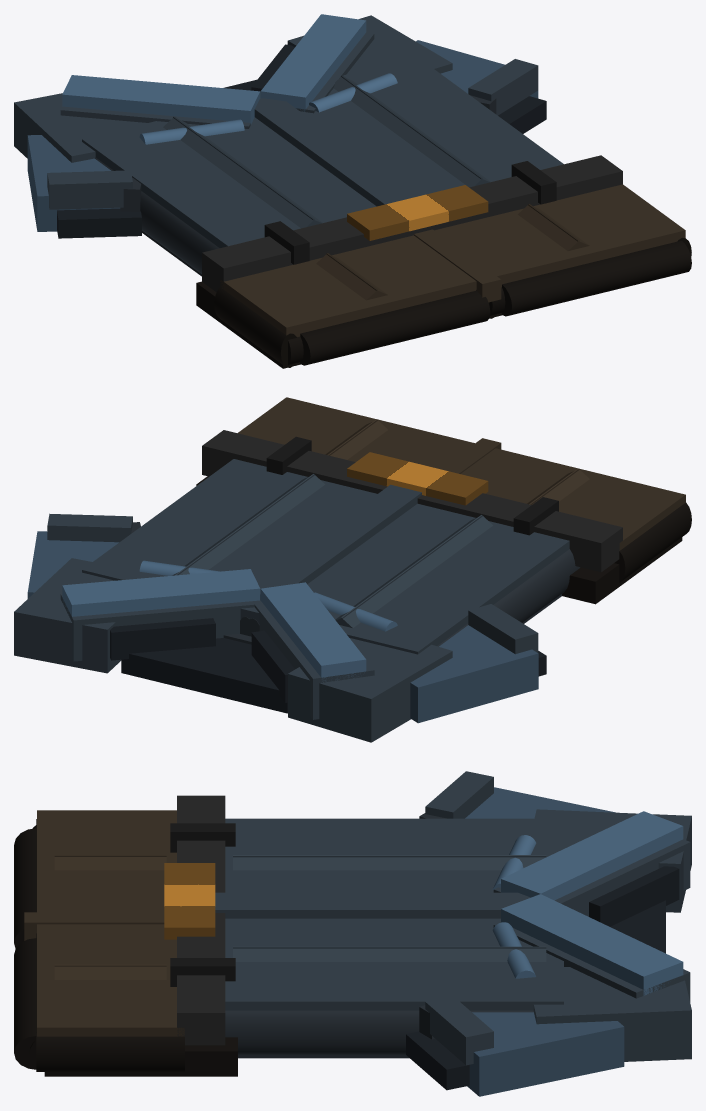
Rendered from CMU3DCMJumpsuitLiaisonFieldWorldCloud.glb.
3 views of the same model, one above another, from view 1: azimuth 30°, elevation 25°; view 2: azimuth 150°, elevation 25°; view 3: azimuth 270°, elevation 25° (orthographic). The views are drawn at different scales.
Parts seen in each view (by area): view 1: left shirt front continuous cloth panel, right shirt front continuous cloth panel, left folded trouser panel continuous cloth panel, right folded trouser panel continuous cloth panel, continuous attached waist belt, left turned collar face, right turned trouser hem, left turned trouser hem, continuous center button placket, right turned collar face, original small waist clasp, left continuous shoulder cloth (+24 smaller); view 2: left shirt front continuous cloth panel, right shirt front continuous cloth panel, continuous attached waist belt, left continuous shoulder cloth, left folded trouser panel continuous cloth panel, left sloping sleeve cloth, right folded trouser panel continuous cloth panel, recessed inner neck facing, right turned collar face, right continuous shoulder cloth, left turned collar face, continuous center button placket (+22 smaller); view 3: right shirt front continuous cloth panel, left shirt front continuous cloth panel, right folded trouser panel continuous cloth panel, left folded trouser panel continuous cloth panel, right sloping sleeve cloth, right shirt front right turned edge, right continuous shoulder cloth, continuous center button placket, continuous attached waist belt, right turned collar face, left turned collar face, right folded trouser panel right turned edge (+25 smaller).
Boxes of the visible parts, bbox=[...] form: left shirt front continuous cloth panel: bbox=[82, 117, 376, 247]; right shirt front continuous cloth panel: bbox=[300, 57, 563, 196]; left folded trouser panel continuous cloth panel: bbox=[220, 235, 476, 363]; right folded trouser panel continuous cloth panel: bbox=[434, 184, 685, 314]; continuous attached waist belt: bbox=[202, 155, 622, 291]; left turned collar face: bbox=[62, 75, 260, 124]; right turned trouser hem: bbox=[501, 241, 691, 316]; left turned trouser hem: bbox=[299, 291, 490, 365]; continuous center button placket: bbox=[254, 98, 416, 206]; right turned collar face: bbox=[260, 14, 366, 111]; original small waist clasp: bbox=[347, 185, 488, 240]; left continuous shoulder cloth: bbox=[14, 93, 146, 162]; left shirt front continuous cloth panel: bbox=[250, 503, 569, 654]; right shirt front continuous cloth panel: bbox=[82, 459, 377, 619]; continuous attached waist belt: bbox=[202, 430, 622, 572]; left continuous shoulder cloth: bbox=[288, 638, 452, 742]; left folded trouser panel continuous cloth panel: bbox=[460, 448, 685, 550]; left sloping sleeve cloth: bbox=[410, 625, 538, 723]; right folded trouser panel continuous cloth panel: bbox=[237, 397, 474, 468]; recessed inner neck facing: bbox=[121, 638, 287, 713]; right turned collar face: bbox=[62, 569, 260, 616]; right continuous shoulder cloth: bbox=[14, 558, 121, 673]; left turned collar face: bbox=[260, 582, 366, 682]; continuous center button placket: bbox=[257, 484, 421, 600]; right shirt front continuous cloth panel: bbox=[225, 918, 563, 1010]; left shirt front continuous cloth panel: bbox=[225, 818, 563, 892]; right folded trouser panel continuous cloth panel: bbox=[37, 924, 184, 1036]; left folded trouser panel continuous cloth panel: bbox=[37, 810, 176, 912]; right sloping sleeve cloth: bbox=[467, 1012, 624, 1096]; right shirt front right turned edge: bbox=[225, 1010, 533, 1054]; right continuous shoulder cloth: bbox=[533, 967, 691, 1061]; continuous center button placket: bbox=[215, 892, 530, 918]; continuous attached waist belt: bbox=[177, 795, 225, 1045]; right turned collar face: bbox=[501, 894, 683, 995]; left turned collar face: bbox=[501, 811, 683, 900]; right folded trouser panel right turned edge: bbox=[36, 1032, 184, 1071].
Bounding box in the file's own units: 0.3961 × 0.05 × 0.4159.
Materials: 10 (1 with a texture image).
